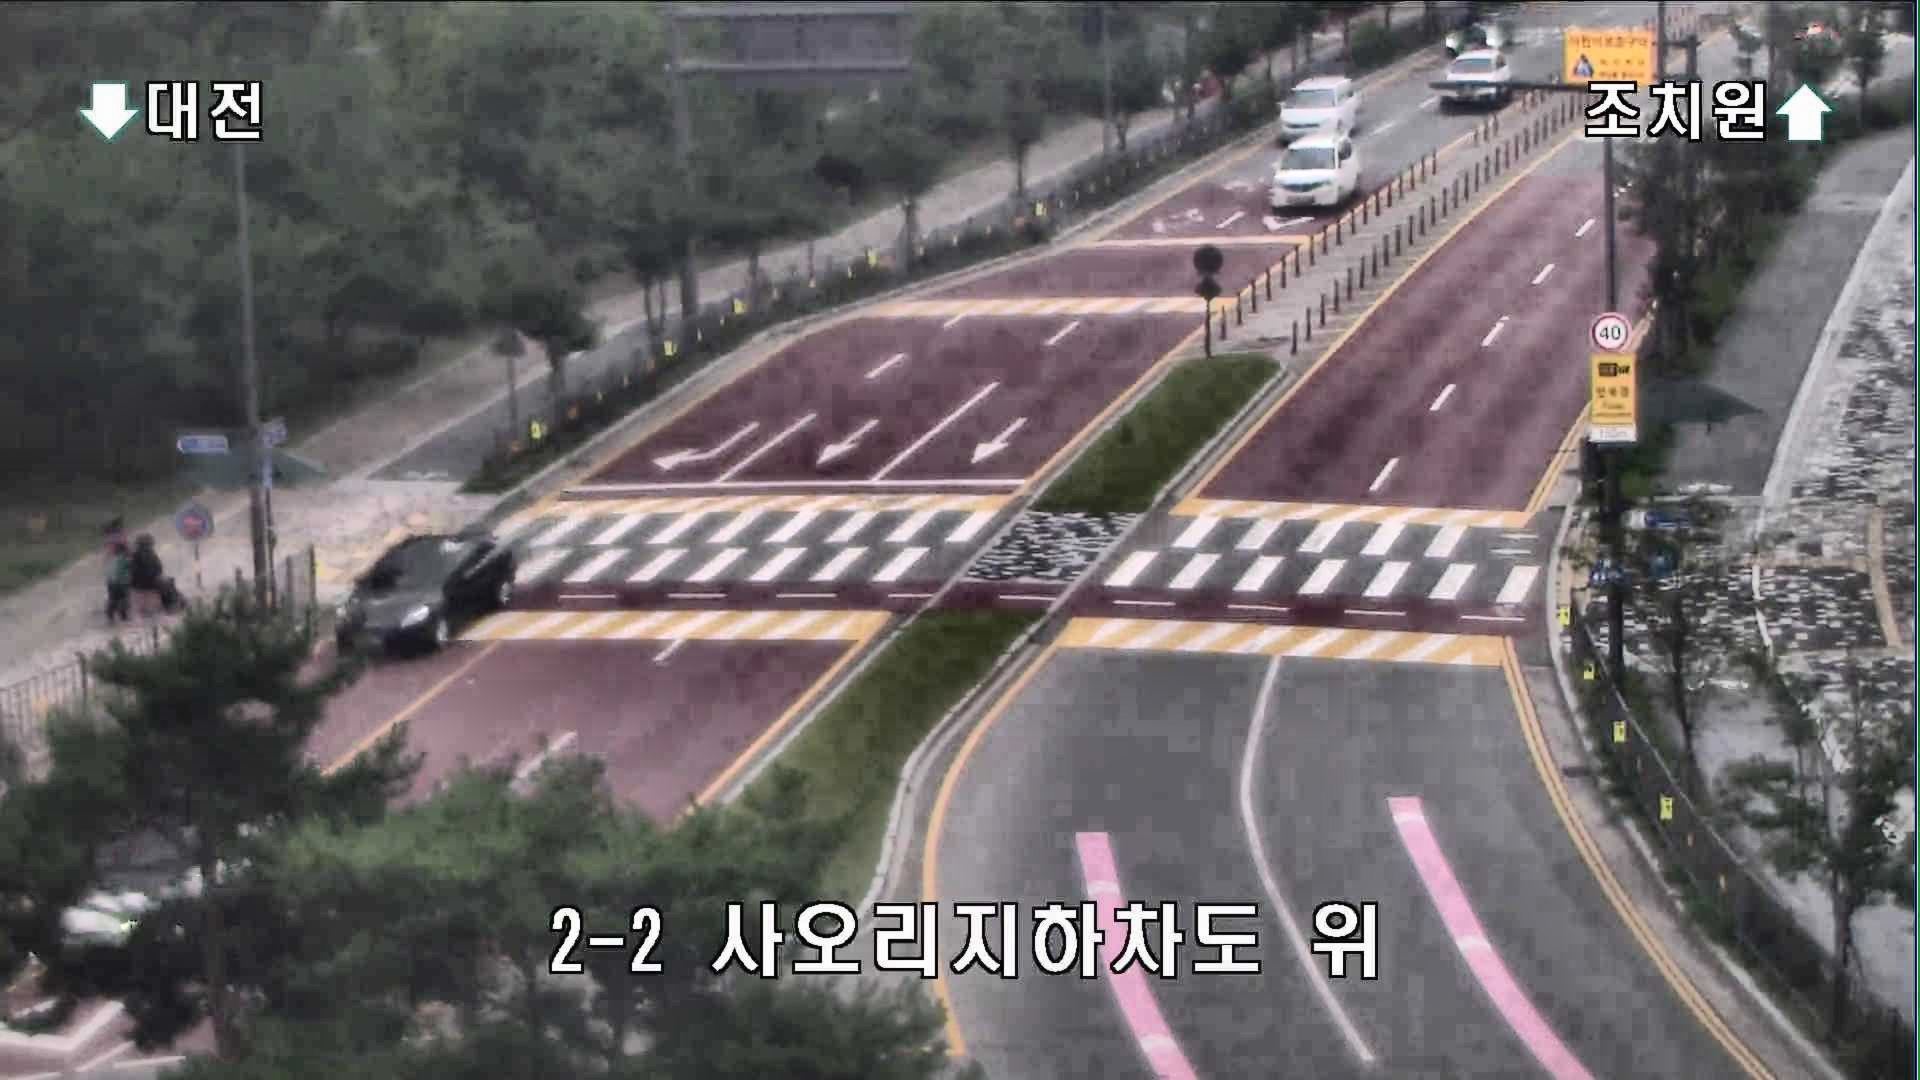sidewalk: (135, 531, 181, 605), (102, 538, 137, 628)
